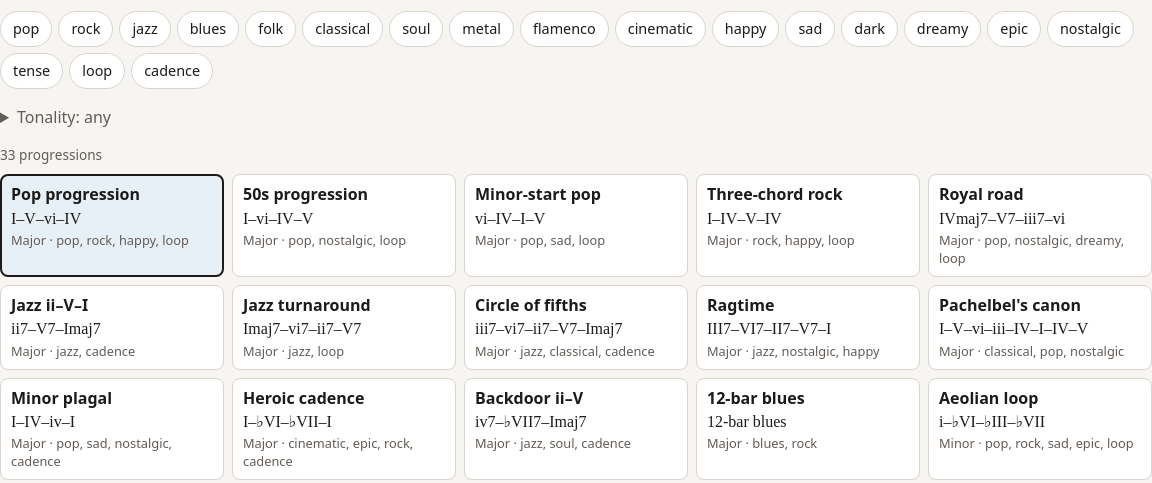
ProgressionView › keeps the tonic's spelling when the progression is in another tonality
Click the button with aria-label "Aeolian loop:" at (1040, 429), box [928,378,1151,480]
(page scrolled)
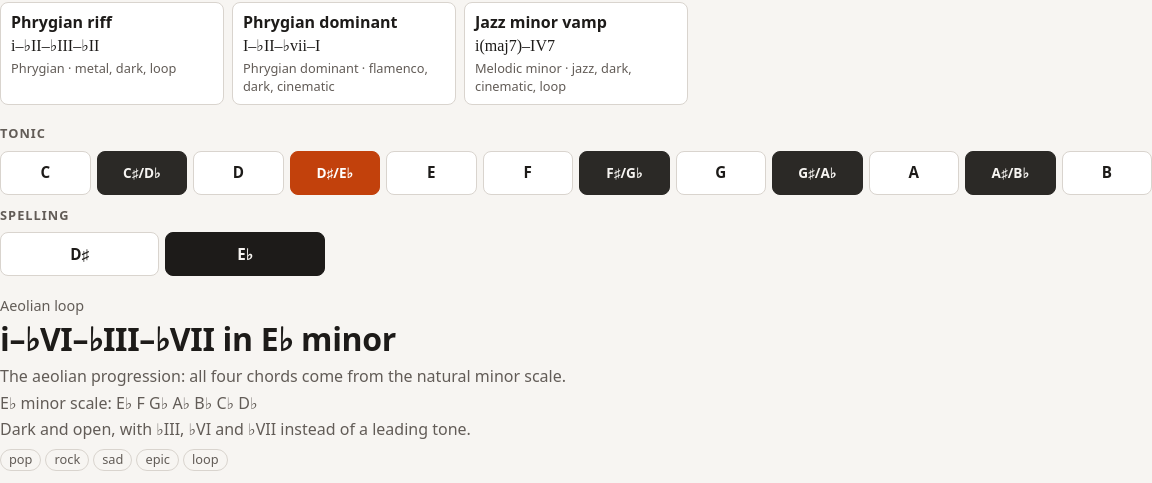
Now the heading "i–♭VI–♭III–♭VII in E♭ minor" is shown, box [0,317,396,360]
